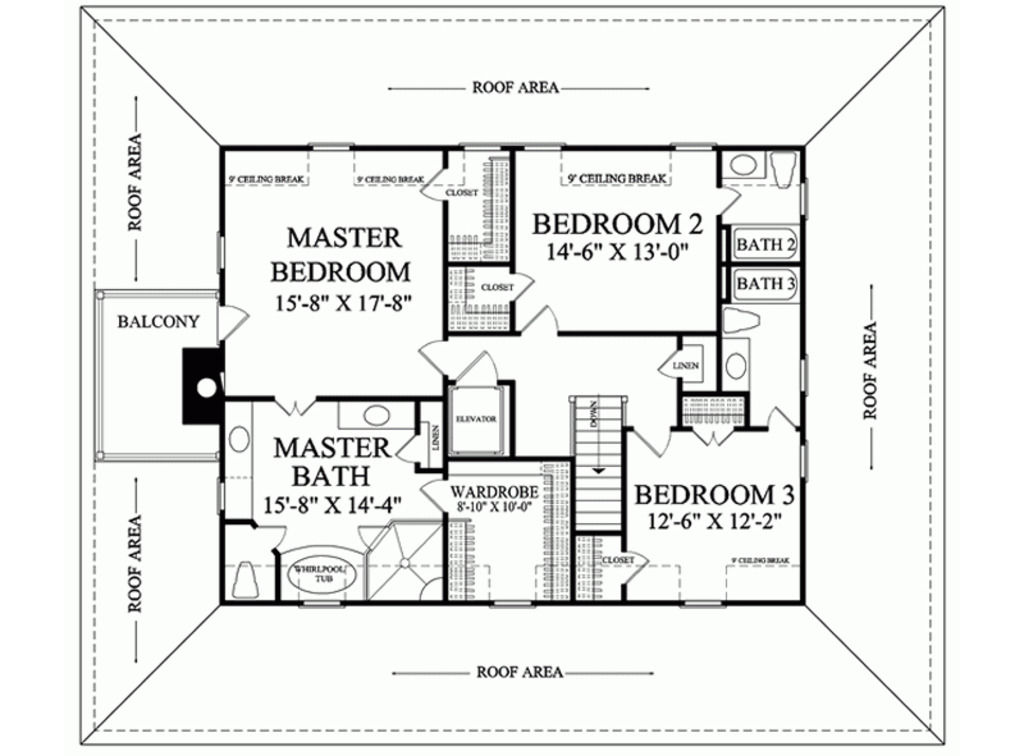door: (448, 352, 504, 388), (515, 302, 561, 340), (631, 422, 678, 455), (414, 334, 448, 378), (216, 302, 252, 342), (276, 392, 316, 422), (765, 401, 800, 435), (414, 171, 448, 203), (382, 431, 416, 463), (423, 476, 455, 510), (256, 521, 287, 551), (504, 272, 536, 301)
large_sink: (284, 554, 358, 592), (724, 336, 751, 394), (716, 302, 761, 336), (230, 559, 265, 601), (769, 149, 801, 192)
small_sink: (220, 402, 254, 479), (332, 402, 416, 431), (716, 152, 768, 186)
stairs: (568, 394, 630, 539)
windows: (455, 141, 564, 155), (676, 596, 724, 611), (311, 142, 358, 157)
